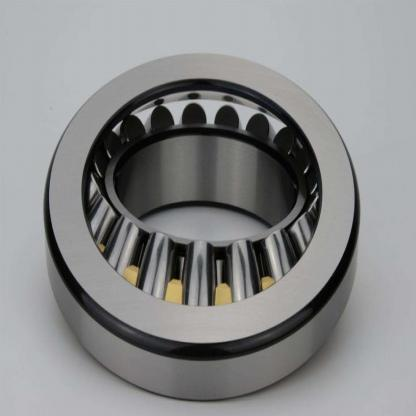FOD: (40, 46, 366, 403)
